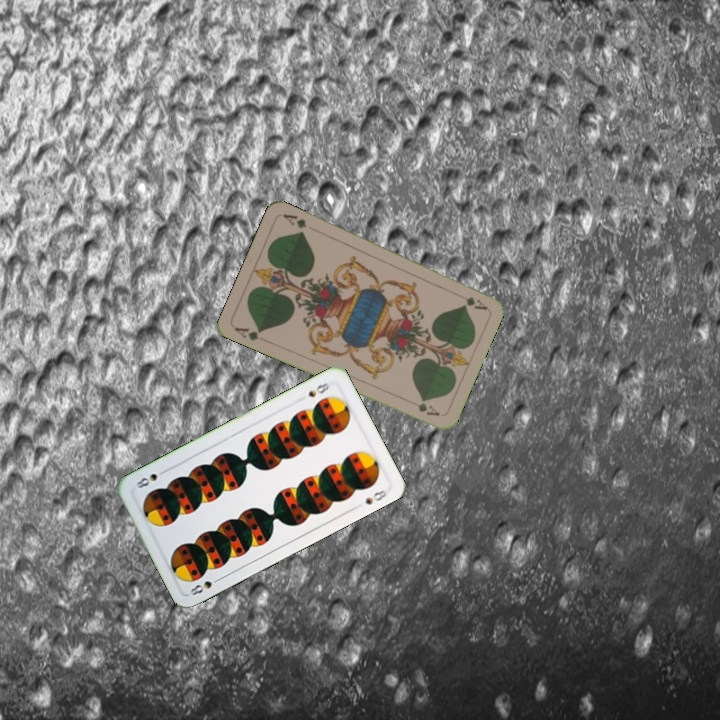GA: (230, 323, 265, 343), (462, 293, 489, 312)
S8: (186, 573, 224, 600), (304, 378, 332, 400)
